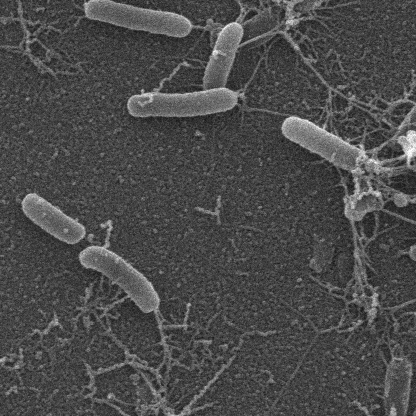cell2cell: (363, 199, 416, 262), (361, 141, 402, 160), (238, 108, 288, 123)
cell2surface: (285, 29, 358, 107), (242, 19, 294, 48), (153, 60, 189, 96), (386, 285, 416, 324), (152, 312, 171, 368), (355, 401, 385, 416), (96, 221, 111, 248)
regular: (81, 249, 161, 316), (285, 123, 371, 173), (85, 1, 194, 40), (128, 87, 241, 121), (24, 198, 85, 246), (205, 23, 242, 90), (383, 357, 408, 416)
